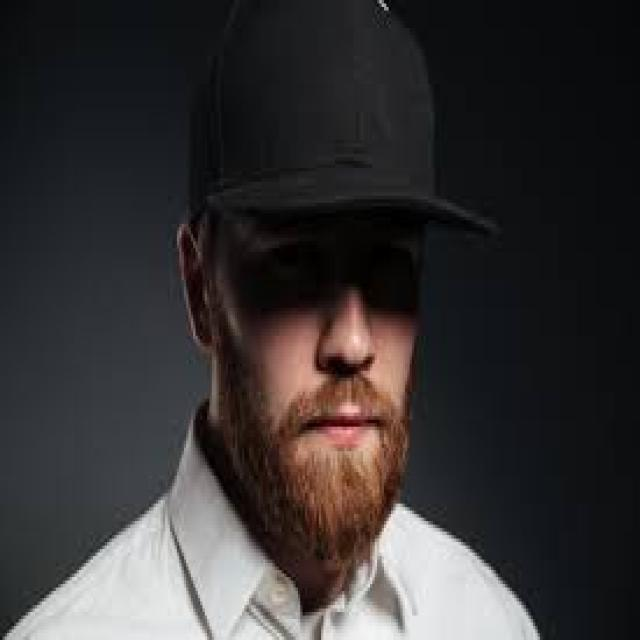3_gorra: (184, 0, 505, 243)
